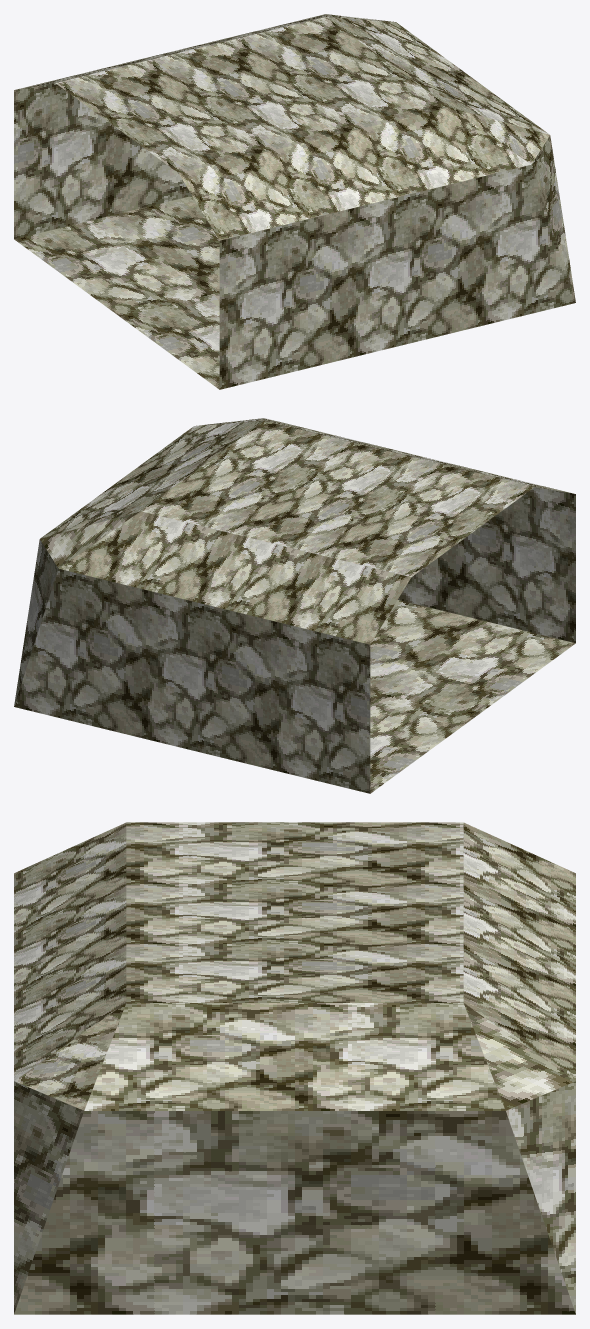
The model's file is bk_dossunbar_l.obj.
The picture shows the model from 3 angles, top to bottom: view 1: azimuth 30°, elevation 25°; view 2: azimuth 150°, elevation 25°; view 3: azimuth 270°, elevation 25°; orthographic projection. The views are drawn at different scales.
Visible parts, largest first — view 1: world_root; view 2: world_root; view 3: world_root.
Part boxes in pixels (bbox=[...]): world_root: bbox=[14, 14, 575, 389]; world_root: bbox=[14, 418, 575, 793]; world_root: bbox=[14, 822, 575, 1314].
Size of the model in its own units: 62.5 by 31.25 by 62.5.
